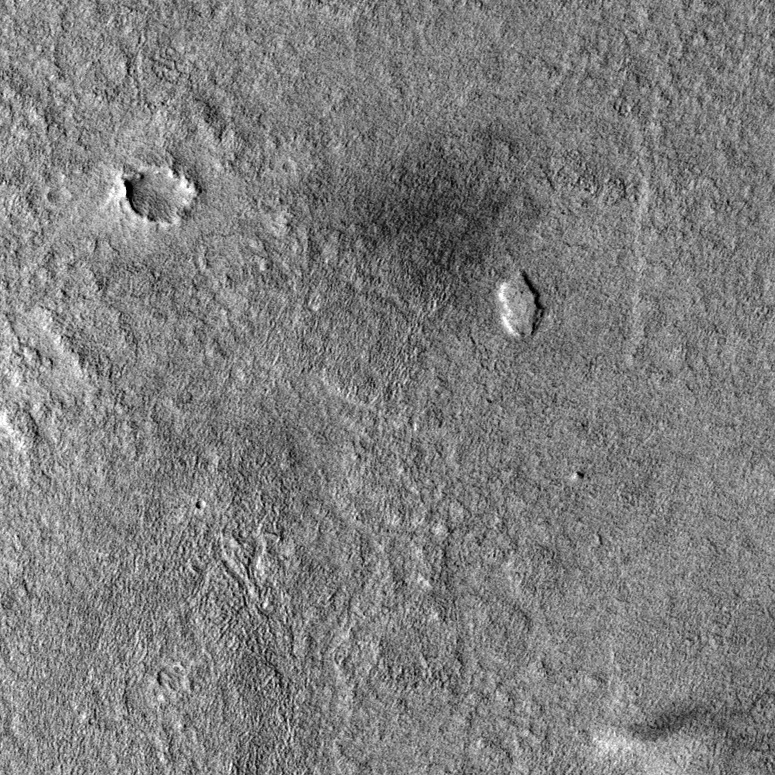dust_devil: (591, 699, 736, 757)
